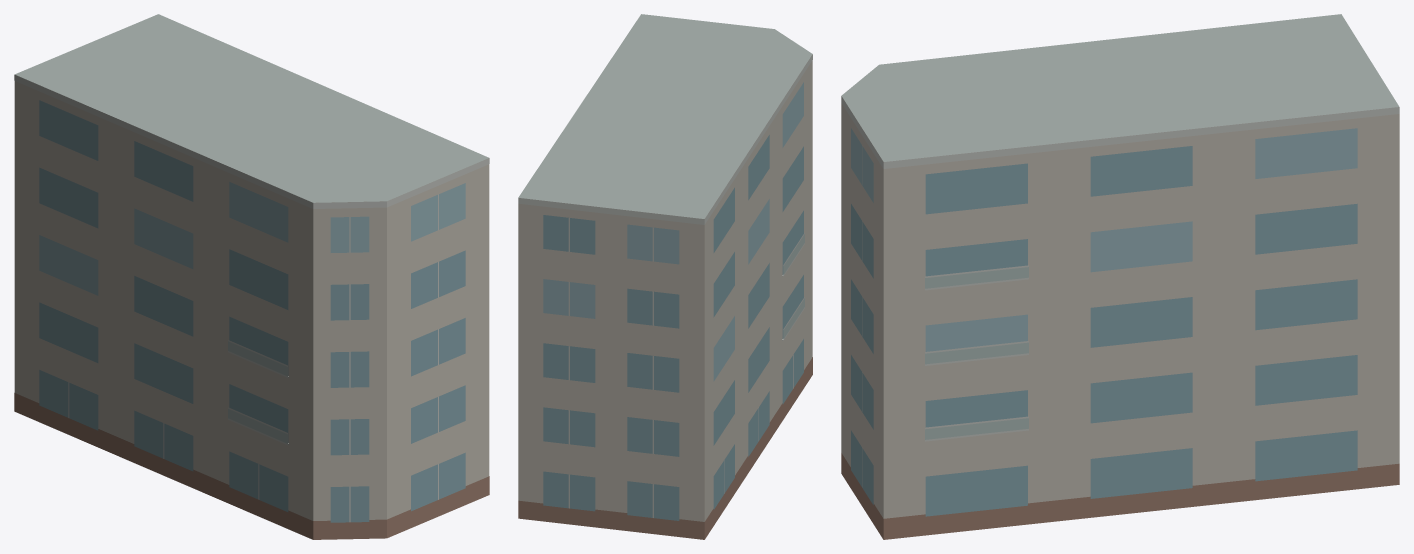
File: survey-upis-32982635.glb
The picture shows the model from 3 angles, left to right: view 1: azimuth 30°, elevation 25°; view 2: azimuth 150°, elevation 25°; view 3: azimuth 270°, elevation 25°; orthographic projection. The views are drawn at different scales.
Parts seen in each view (by area): view 1: survey-upis-32982635.tmp; view 2: survey-upis-32982635.tmp; view 3: survey-upis-32982635.tmp.
Part boxes in pixels (x1,y1,x2,y2): survey-upis-32982635.tmp: (14,14,489,539); survey-upis-32982635.tmp: (518,14,812,539); survey-upis-32982635.tmp: (841,14,1399,539).
Size of the model in its own units: 11.11 by 13.2 by 17.69.
